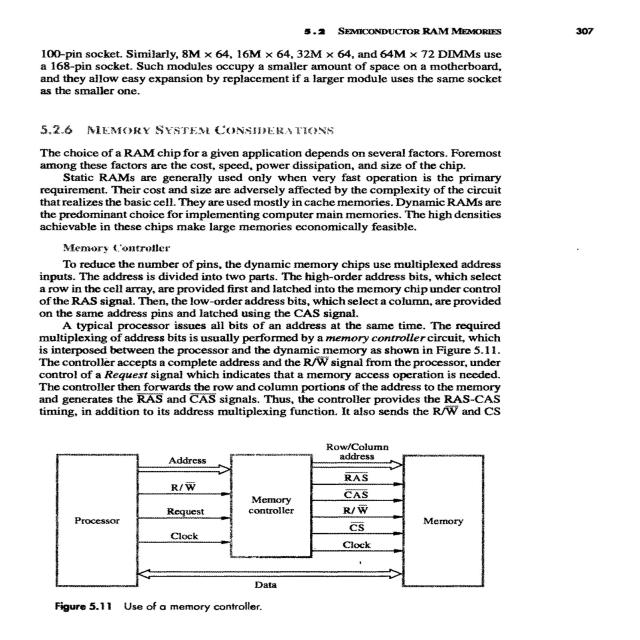diagram: (20, 428, 573, 634)
